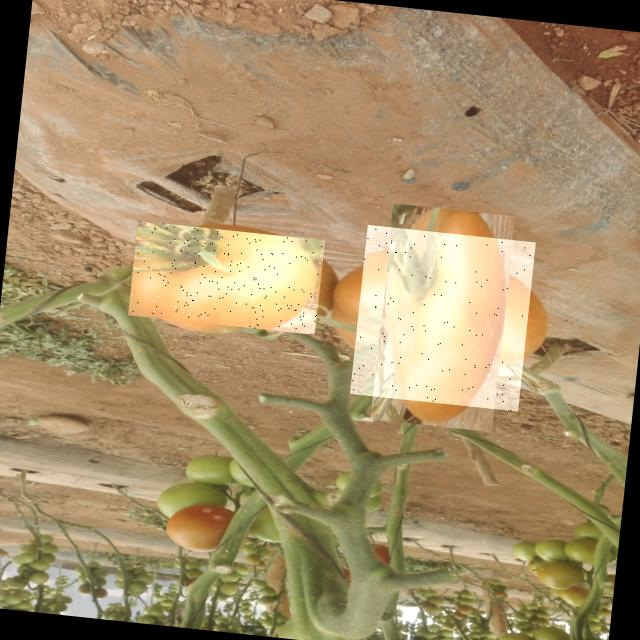Unripe Tomato: (350, 224, 536, 411), (128, 220, 324, 334)
